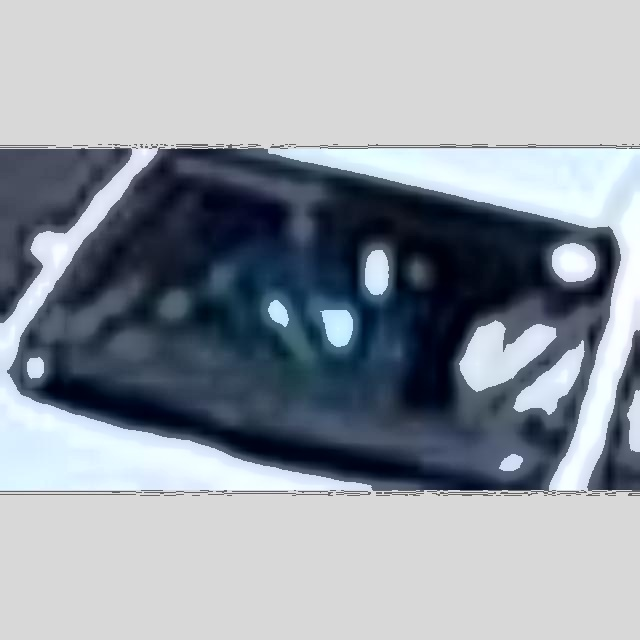pakai: (167, 193, 386, 403), (447, 263, 614, 438)
